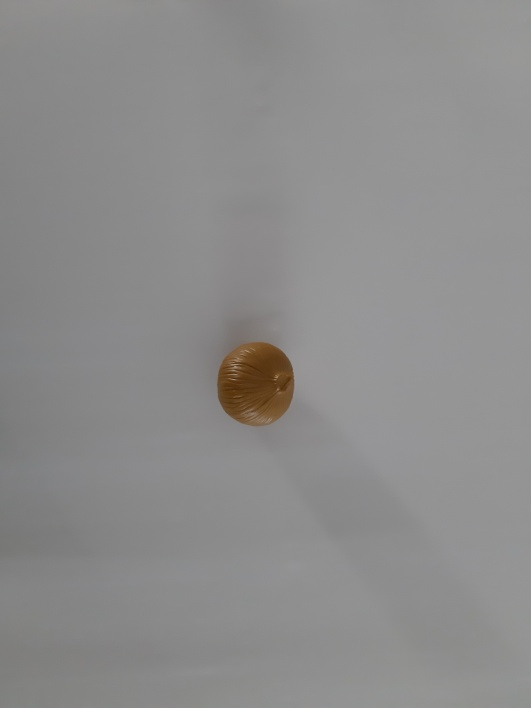onion: (196, 331, 309, 447)
